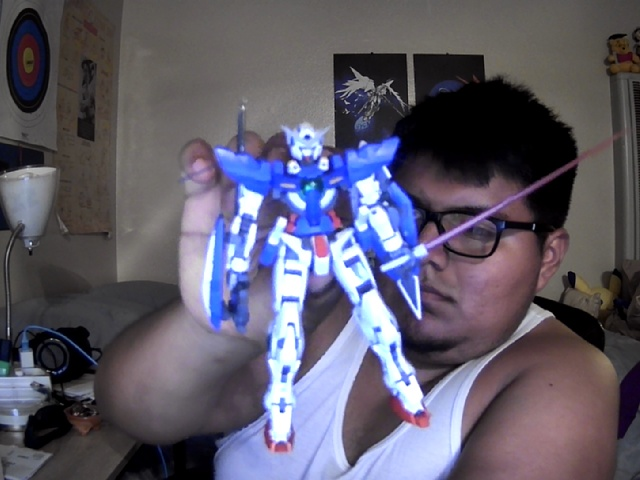Exia: (201, 95, 631, 455)
